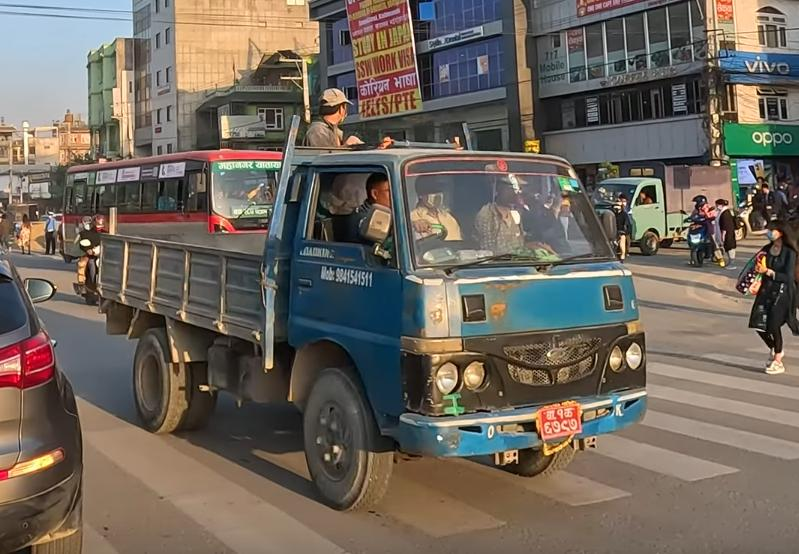bus: (55, 155, 300, 255)
car: (0, 235, 114, 554)
mini_truck: (102, 110, 665, 512)
scooter: (683, 192, 720, 270)
transport_vehicle: (593, 168, 743, 246)
